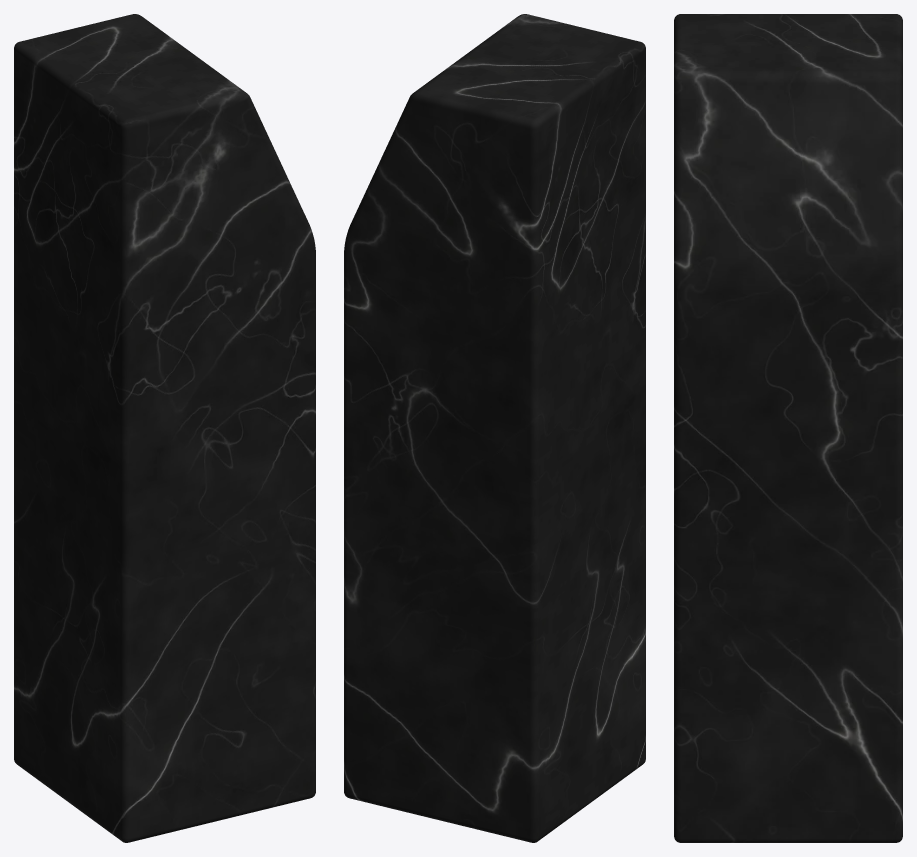
Rendered from bishop-black-hd.glb.
The picture shows the model from 3 angles, left to right: view 1: azimuth 30°, elevation 25°; view 2: azimuth 150°, elevation 25°; view 3: azimuth 270°, elevation 25°; orthographic projection.
Parts seen in each view (by area): view 1: strelec_cerny; view 2: strelec_cerny; view 3: strelec_cerny.
Part boxes in pixels (box(x1,y1,x2,y2)): strelec_cerny: box(14, 14, 315, 842); strelec_cerny: box(344, 14, 645, 842); strelec_cerny: box(674, 14, 902, 842).
Size of the model in its own units: 0.4281 by 1.52 by 0.4281.
Materials: 1 (1 with a texture image).
